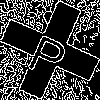P: (25, 25, 74, 80)
